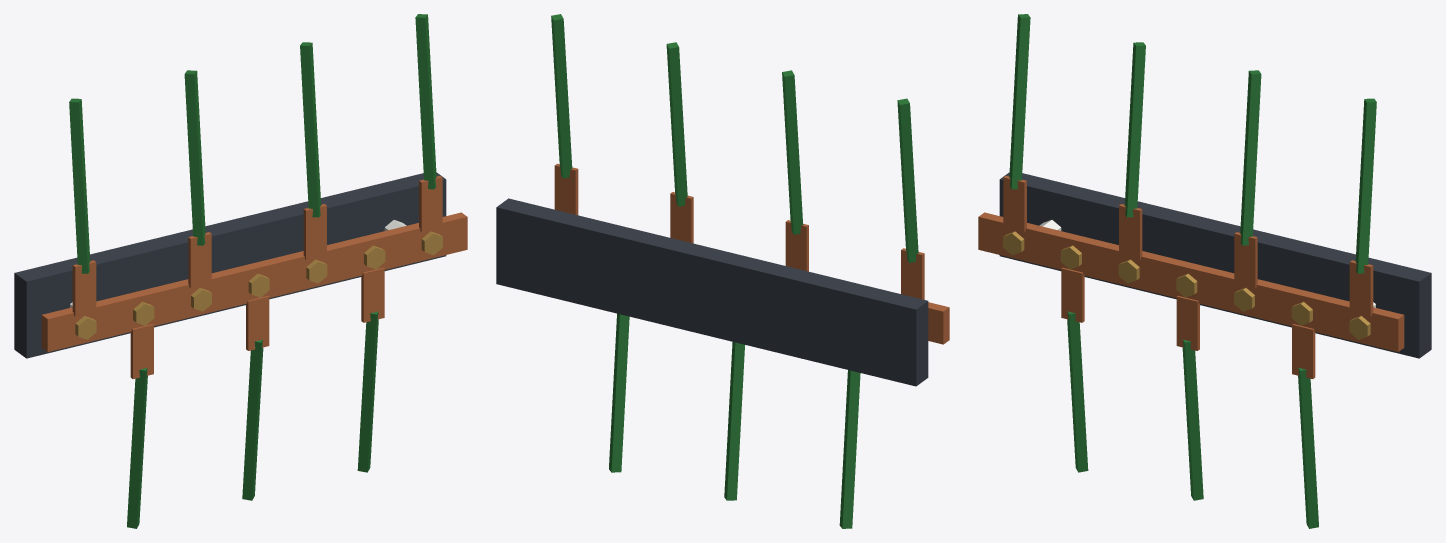
Rendered from junction_ground_bus.glb.
3 views of the same model, side by side, from view 1: azimuth 30°, elevation 25°; view 2: azimuth 150°, elevation 25°; view 3: azimuth 330°, elevation 25° (orthographic).
Visible parts, largest first — view 1: junction_ground_bus; view 2: junction_ground_bus; view 3: junction_ground_bus.
Part boxes in pixels (x1,y1,x2,y2): junction_ground_bus: (14,14,467,528); junction_ground_bus: (496,14,949,528); junction_ground_bus: (978,14,1431,528).
Size of the model in its own units: 0.8 by 0.8024 by 0.1219.
